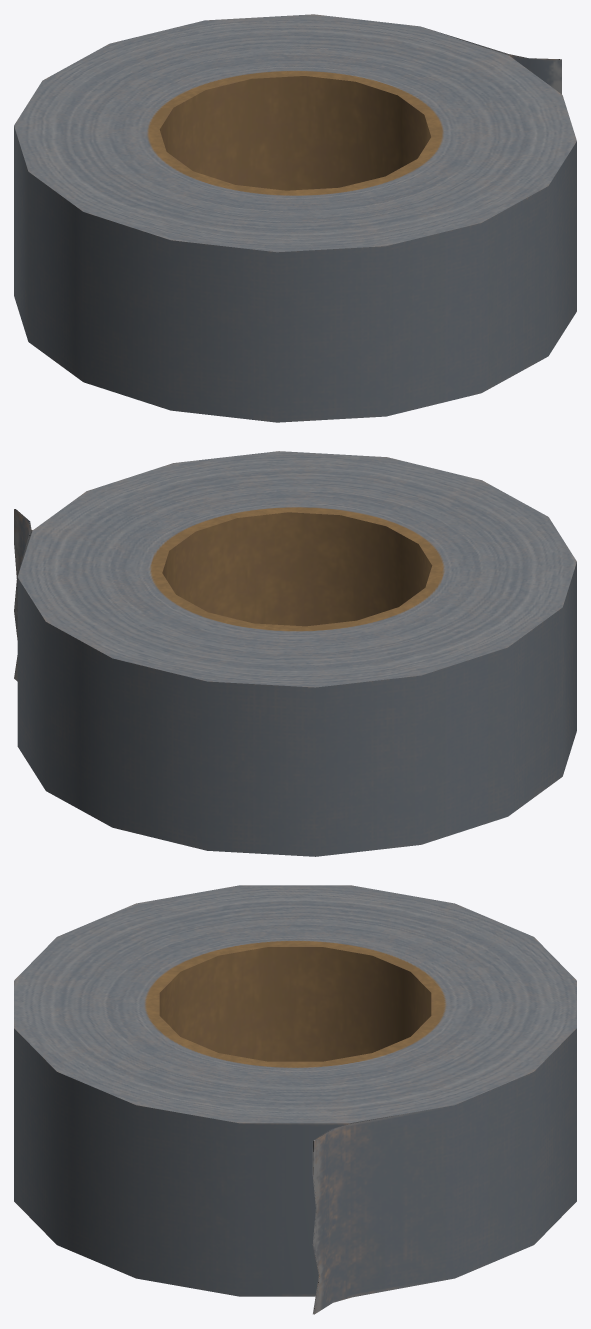
The model's file is warning_tape.glb.
The picture shows the model from 3 angles, top to bottom: view 1: azimuth 30°, elevation 25°; view 2: azimuth 150°, elevation 25°; view 3: azimuth 270°, elevation 25°; orthographic projection. The views are drawn at different scales.
Visible parts, largest first — view 1: DuctTape_0; view 2: DuctTape_0; view 3: DuctTape_0.
Boxes of the visible parts, <box> form: DuctTape_0: <box>14,14,576,422</box>; DuctTape_0: <box>14,451,576,856</box>; DuctTape_0: <box>14,885,576,1314</box>.
Bounding box in the file's own units: 0.1512 × 0.0478 × 0.1406.
1 material, 1 textured.
